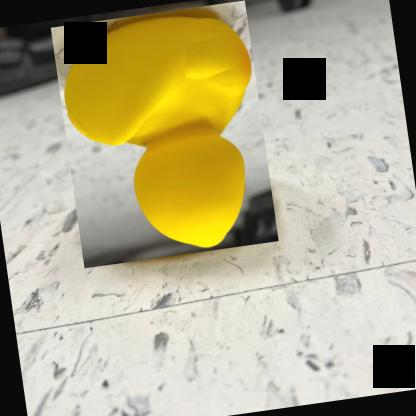duck: (50, 0, 278, 268)
